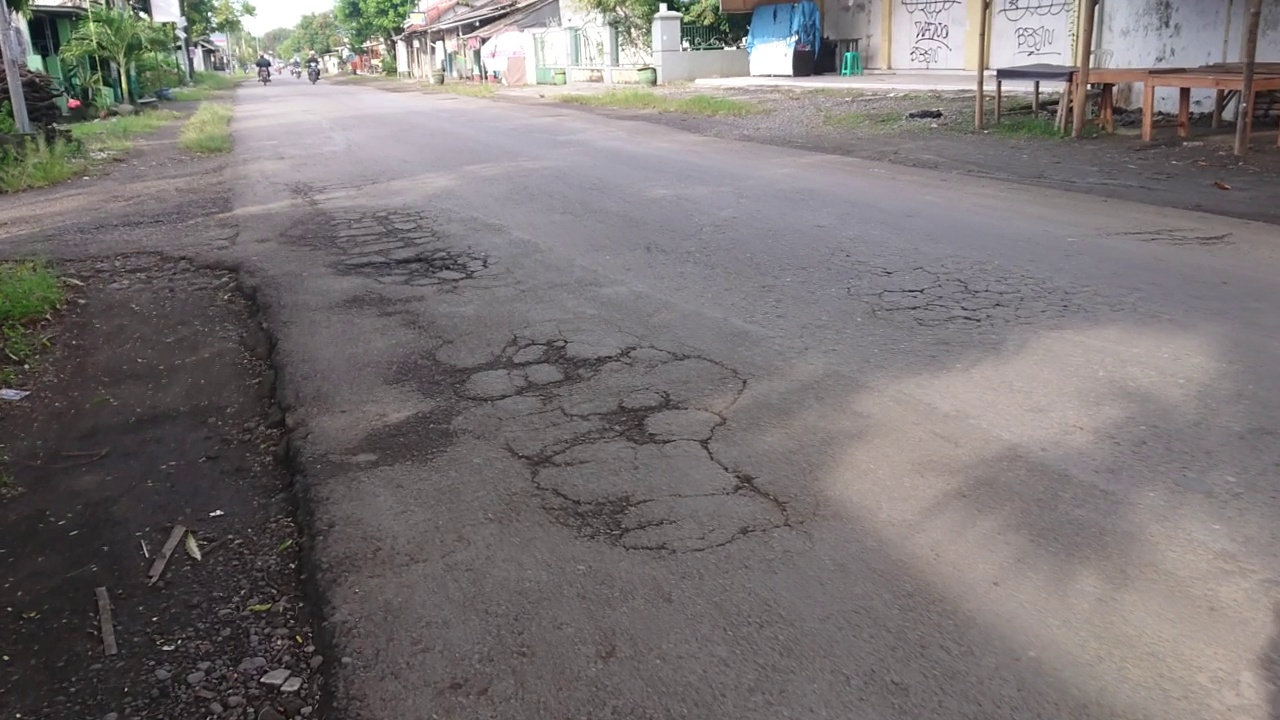Retak: (442, 341, 789, 544), (869, 261, 1070, 346), (348, 207, 496, 304)
